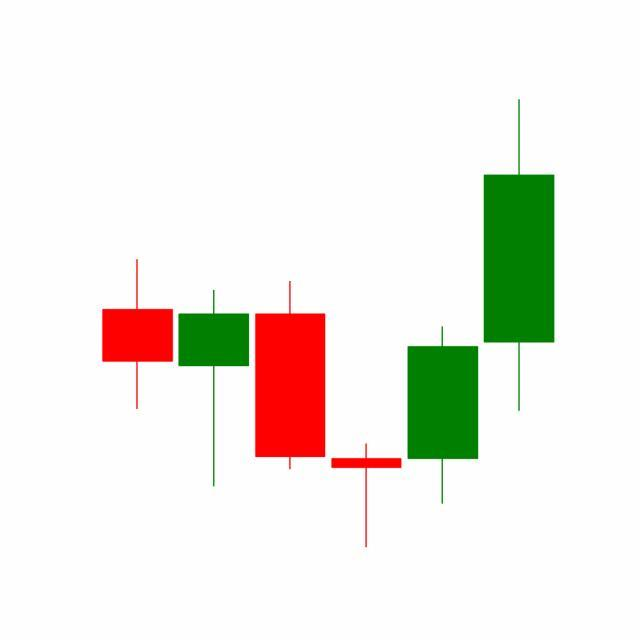Morning Doji Star: (252, 277, 482, 549)
